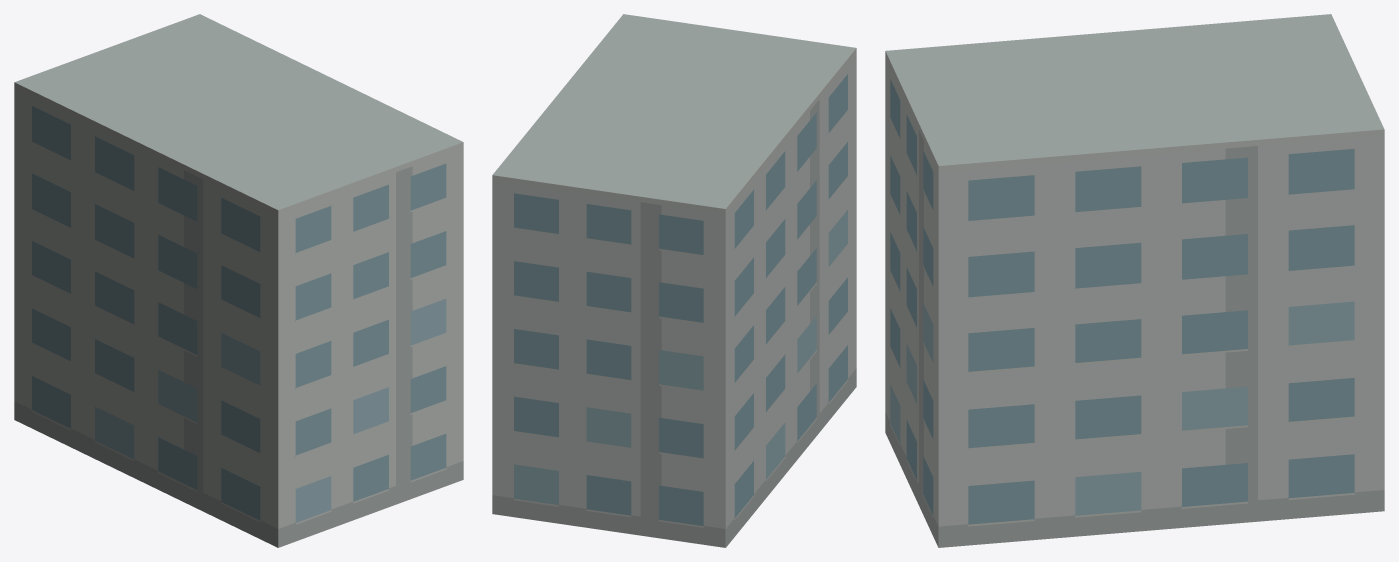
Rendered from residential-75b91fcc-3c72-4545-8b58-27c5fba80e64.glb.
3 renders of one model, left to right at view 1: azimuth 30°, elevation 25°; view 2: azimuth 150°, elevation 25°; view 3: azimuth 270°, elevation 25°, orthographic. The views are drawn at different scales.
Parts seen in each view (by area): view 1: residential-75b91fcc-3c72-4545-8b58-27c5fba80e64.tmp; view 2: residential-75b91fcc-3c72-4545-8b58-27c5fba80e64.tmp; view 3: residential-75b91fcc-3c72-4545-8b58-27c5fba80e64.tmp.
Part boxes in pixels (box(x1,y1,x2,y2)): residential-75b91fcc-3c72-4545-8b58-27c5fba80e64.tmp: box(14, 14, 463, 547); residential-75b91fcc-3c72-4545-8b58-27c5fba80e64.tmp: box(492, 14, 856, 547); residential-75b91fcc-3c72-4545-8b58-27c5fba80e64.tmp: box(885, 14, 1384, 547).
Bounding box in the file's own units: 13.04 × 15.25 × 18.08.
